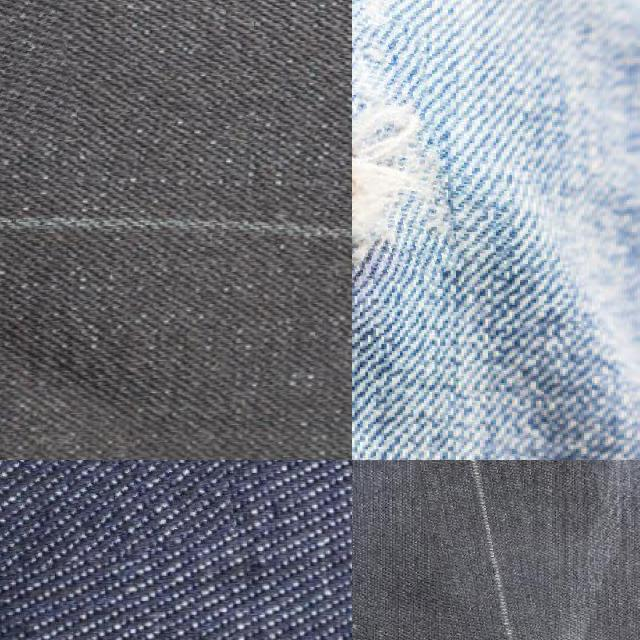Thread_other: (423, 460, 578, 640), (0, 460, 219, 569)
seam: (352, 29, 449, 304)
